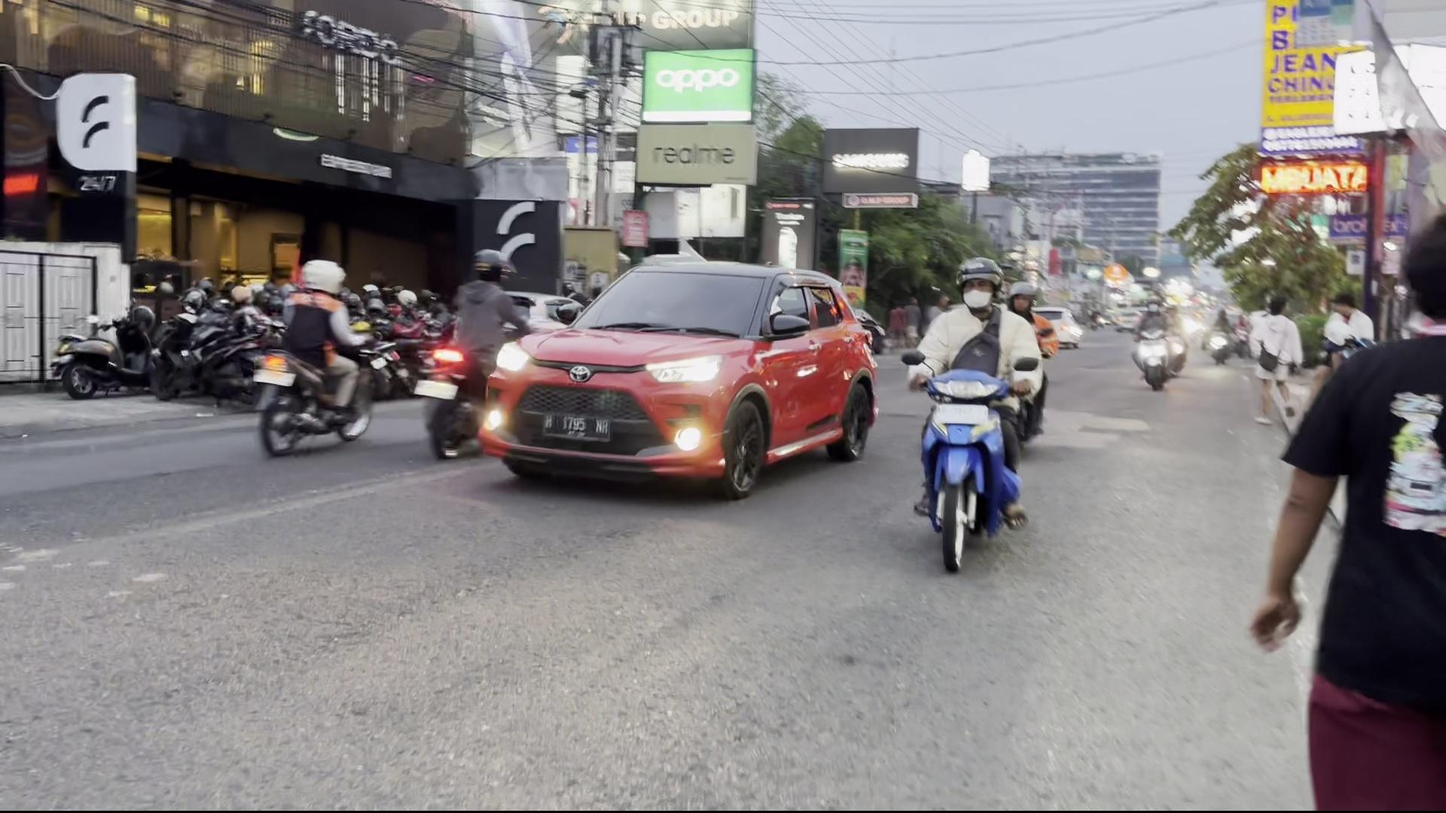helm: (954, 256, 1005, 312), (299, 260, 349, 298), (471, 248, 518, 284)
riding: (900, 256, 1045, 576), (252, 259, 389, 457), (413, 247, 538, 461)
